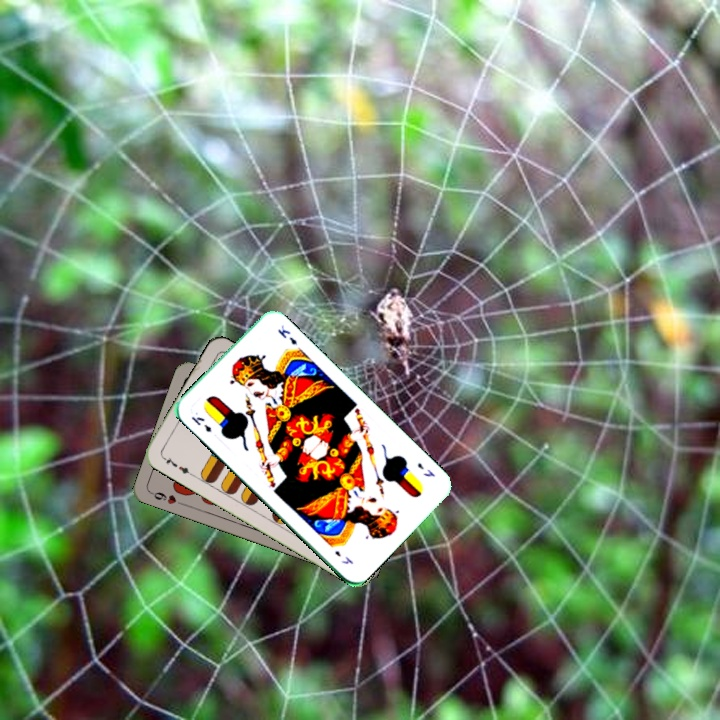E7: (158, 452, 195, 478)
EK: (187, 412, 214, 435), (413, 458, 437, 479)
H9: (147, 488, 186, 508)
